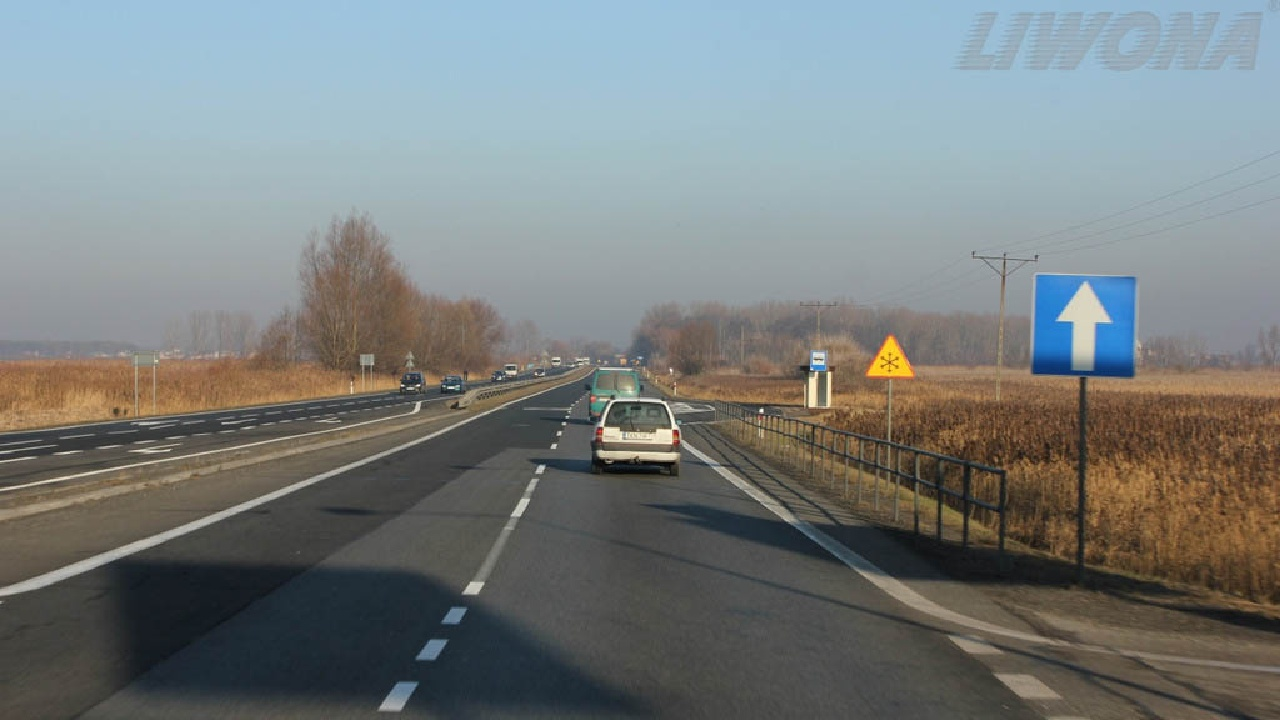A32: (865, 333, 916, 379)
D3: (1030, 271, 1137, 377)
